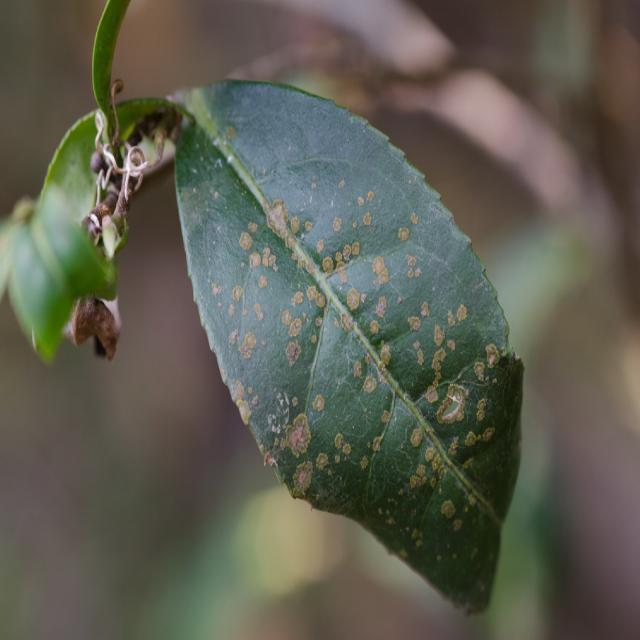Tea algae leaf spot: (219, 187, 525, 601)
